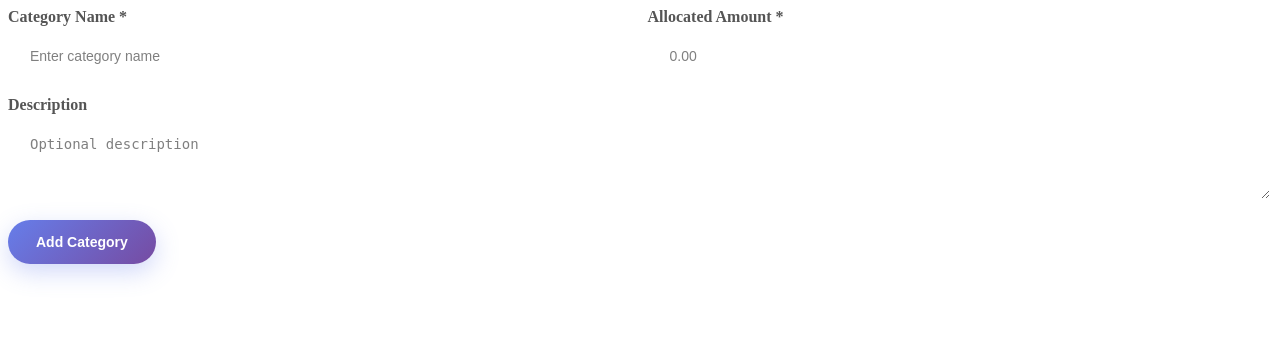
Personal Budget Tracker - Tests › React_BuildUIComponents_prevents submission if categoryName is empty
Type "100" into the number field labelled "Allocated Amount *" at (960, 56), box [648, 31, 1272, 81]
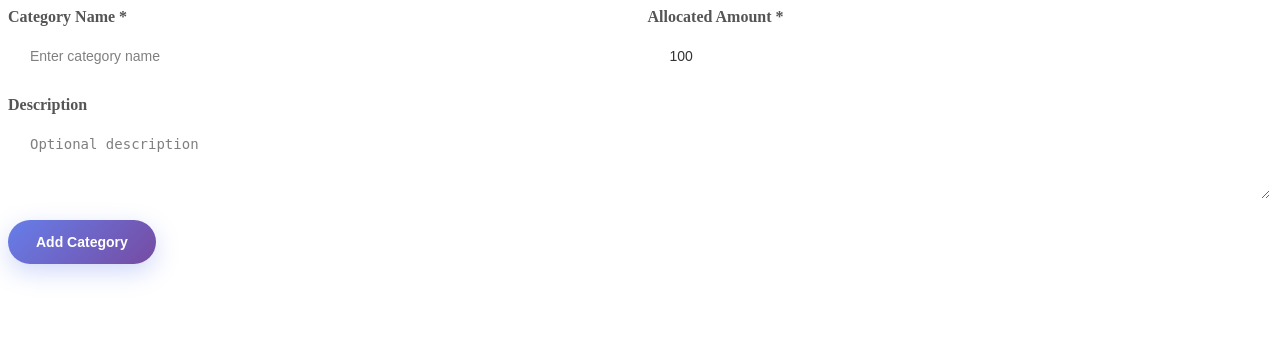
Click the button "Add Category" at (82, 242), box [8, 220, 156, 264]
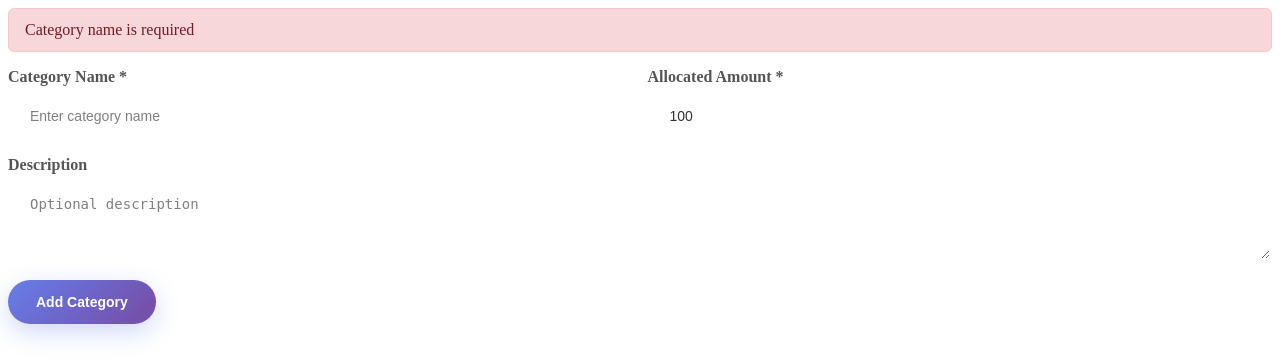
expect the text "Category name is required" is shown: met, box [8, 8, 1272, 52]
